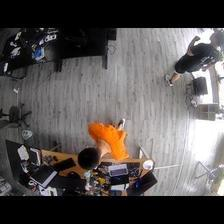normal: (166, 30, 224, 87), (76, 119, 129, 169)
